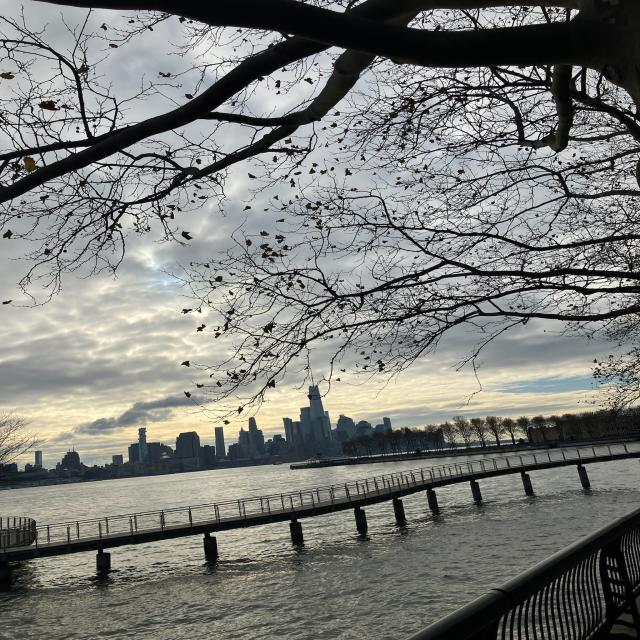WTC: (305, 367, 325, 419)
